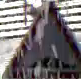Speed Breaker ahead: (6, 2, 80, 78)
